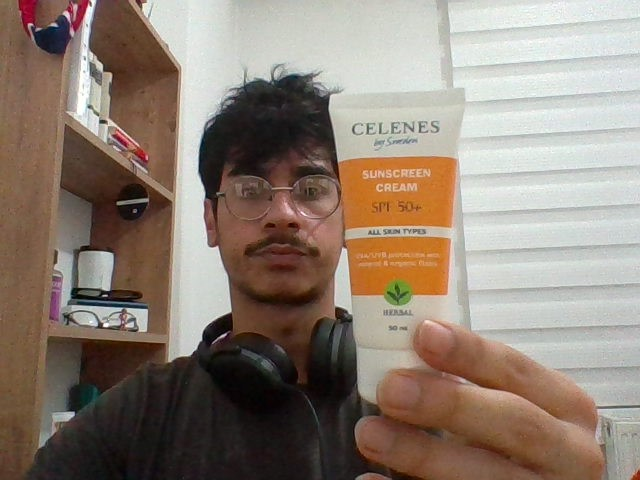CelenesSunCream: (328, 93, 465, 383)
